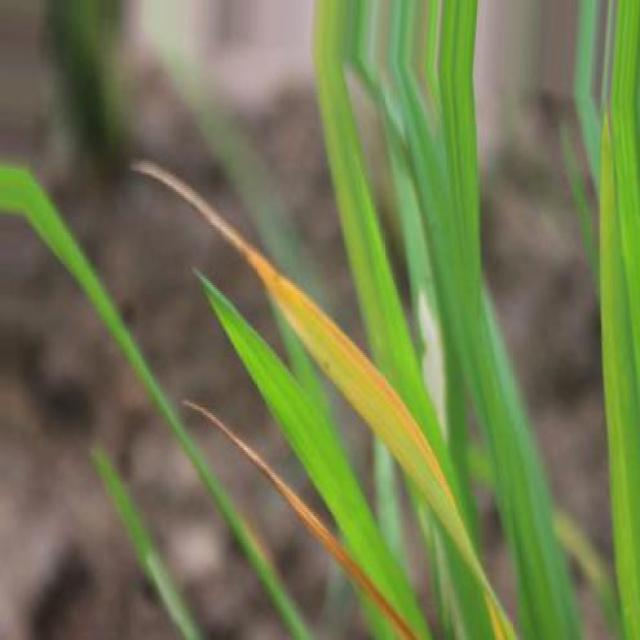Rice Tungro: (137, 163, 515, 639), (184, 402, 419, 639)
